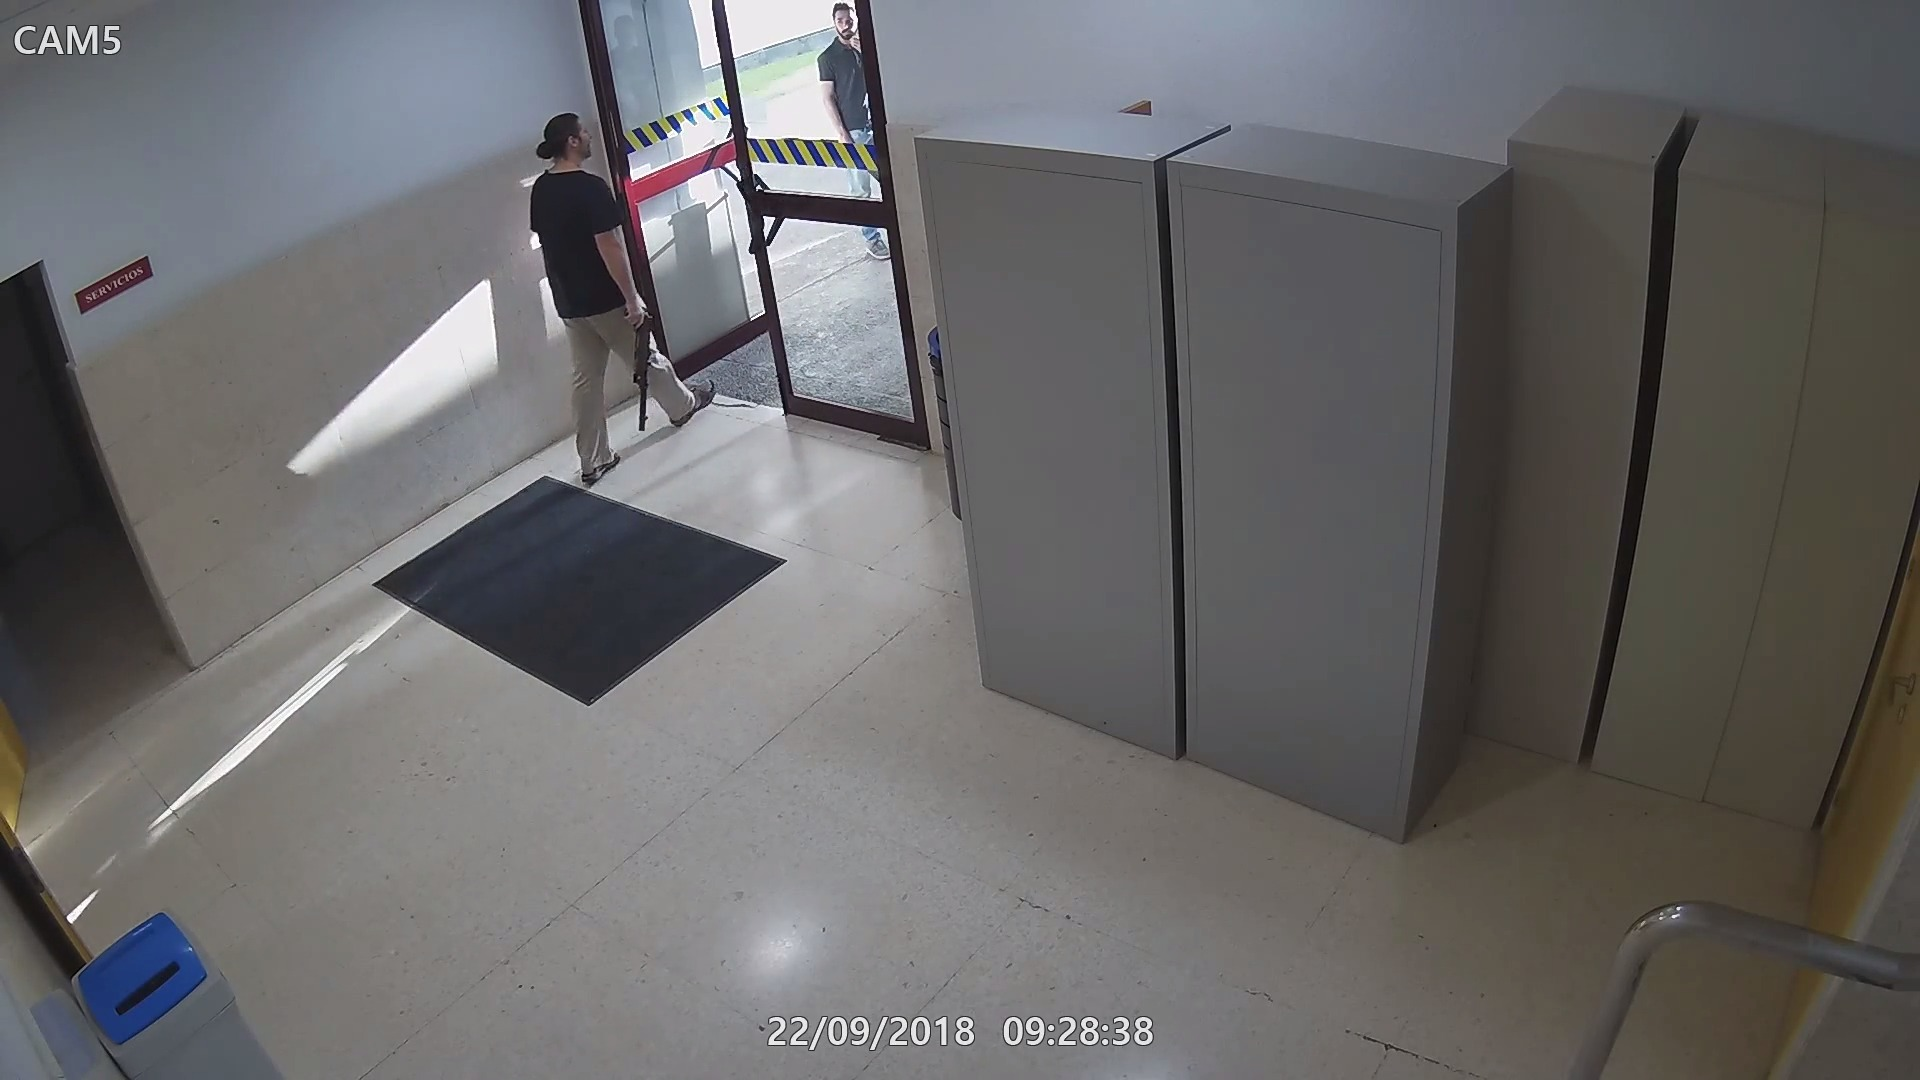Short_rifle: (624, 305, 653, 433)
